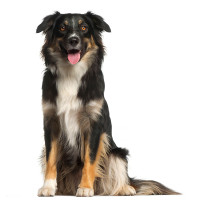dog: (30, 9, 185, 198)
